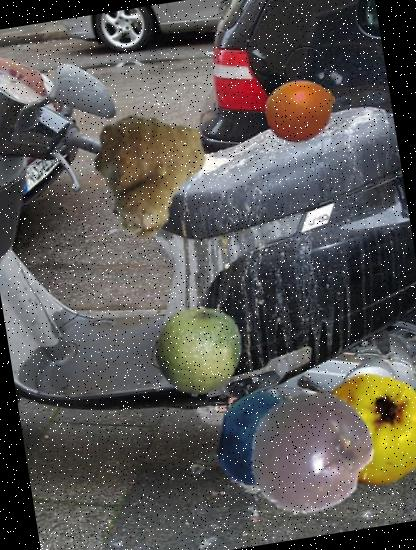Ginger: (80, 102, 226, 248)
Huckleberry: (204, 384, 313, 493)
Limes: (148, 300, 250, 403)
Passion: (242, 383, 386, 526)
Quince: (307, 363, 416, 496)
Tangelo: (260, 70, 342, 152)
